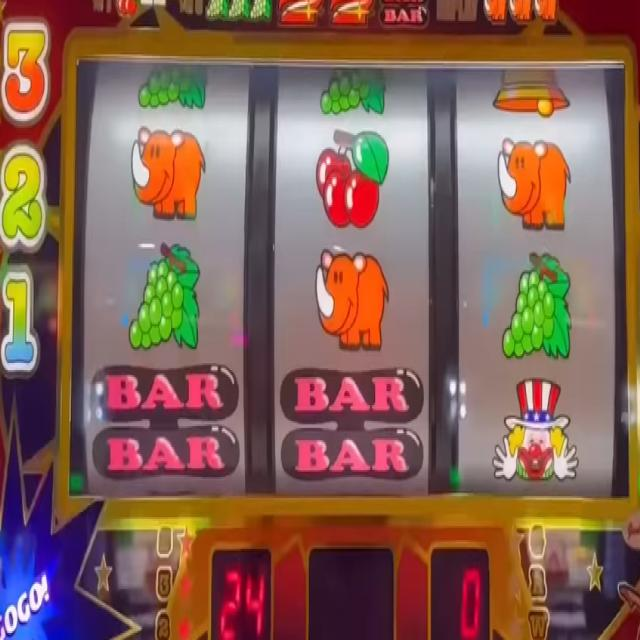bar: (89, 362, 241, 477), (278, 368, 424, 484), (378, 0, 428, 29)
bell: (494, 66, 572, 117)
cherry: (316, 130, 389, 223), (115, 0, 136, 18)
clown: (492, 376, 580, 489)
display: (74, 54, 630, 502)
elephant: (315, 246, 390, 348), (131, 122, 207, 220), (499, 142, 573, 224), (482, 0, 507, 23), (534, 0, 559, 23), (508, 0, 532, 22)
grape: (127, 239, 201, 351), (500, 248, 573, 360), (136, 57, 208, 112), (318, 63, 390, 114), (205, 0, 228, 22), (227, 0, 249, 21), (250, 0, 270, 21)
z: (331, 0, 373, 27), (280, 0, 323, 26)
